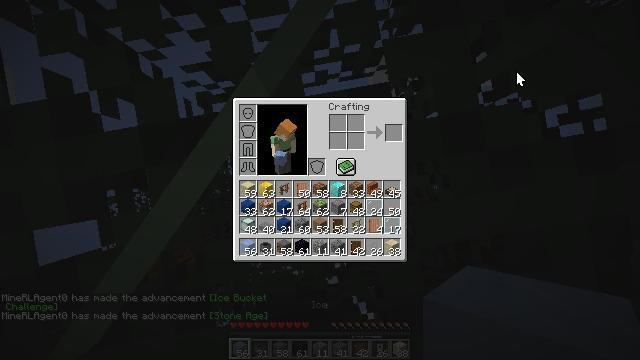cursor: (516, 71, 526, 87)
